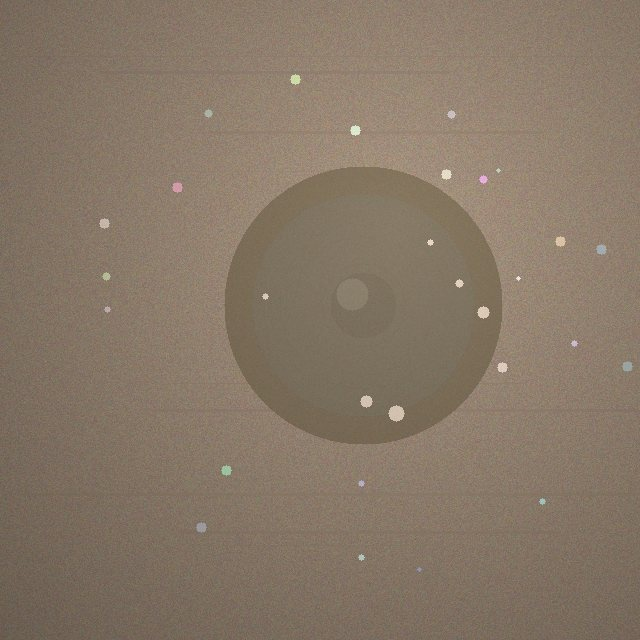overburn: (224, 166, 502, 444)
